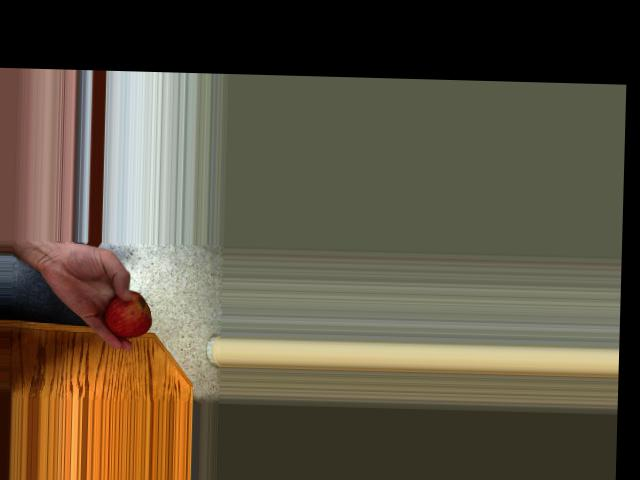apple: (101, 291, 155, 340)
